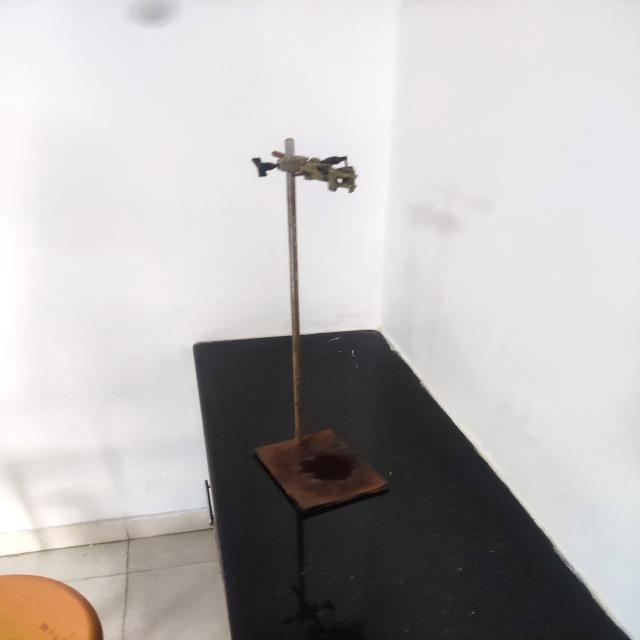Burette_Stands: (215, 118, 422, 533)
